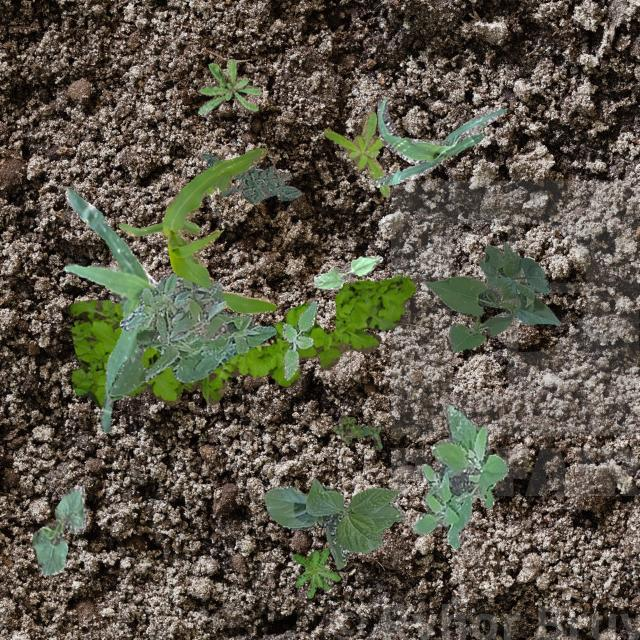crop: (118, 148, 276, 312), (64, 186, 156, 432), (424, 242, 560, 350), (262, 476, 406, 568), (370, 96, 506, 186), (30, 484, 84, 574), (313, 254, 382, 288)
weed: (66, 274, 414, 408), (107, 281, 276, 398), (412, 402, 508, 548), (118, 272, 225, 342), (322, 110, 388, 196), (200, 152, 300, 202), (197, 58, 260, 115), (280, 300, 318, 378), (292, 546, 340, 598), (332, 414, 381, 448)
